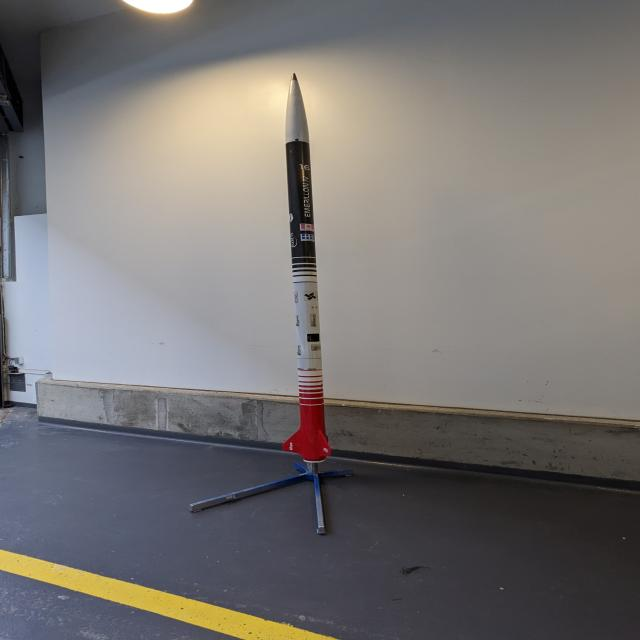Rocket: (282, 73, 332, 463)
